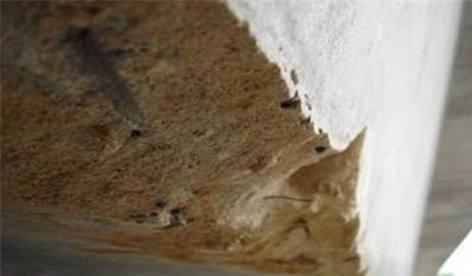Spalling: (1, 1, 370, 276)
